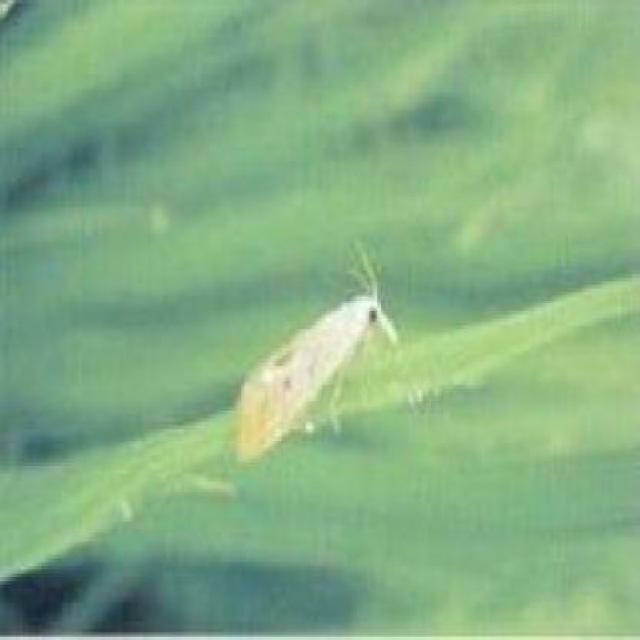stem-borer: (232, 246, 402, 471)
